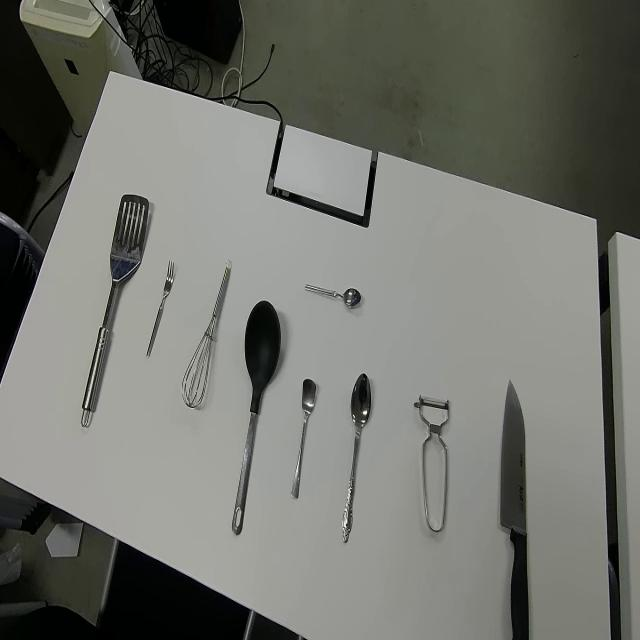Desert-Spoon: (342, 370, 372, 543)
Dinner-Fork: (146, 259, 176, 360)
Kitchen-Knife: (499, 377, 530, 640)
Peeler: (414, 392, 451, 534)
Serving-Spoon: (80, 192, 150, 430), (232, 298, 282, 536)
Tea-Spoon: (290, 377, 318, 501), (304, 282, 362, 309)
Whisk: (181, 258, 233, 410)
